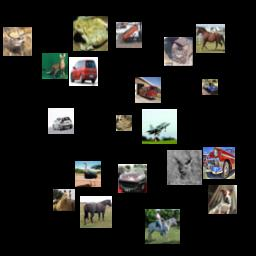airplane: (142, 109, 177, 144)
automobile: (203, 147, 235, 179), (118, 164, 147, 193), (69, 57, 98, 86), (48, 108, 74, 134), (202, 79, 218, 95)
bird: (75, 161, 101, 187)
cat: (164, 37, 193, 66), (42, 53, 68, 79)
deer: (167, 150, 202, 185), (3, 27, 32, 56)
dog: (208, 185, 237, 214)
frog: (73, 16, 108, 51), (116, 115, 132, 131)
truck: (135, 77, 161, 103), (116, 22, 142, 48)
